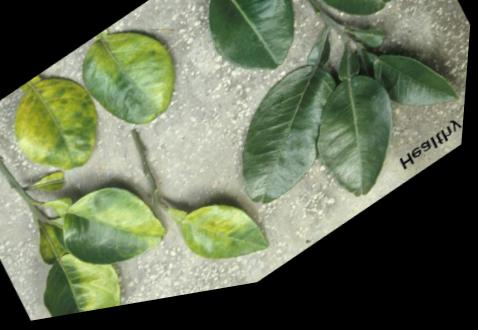Citrus Greening: (70, 8, 196, 157), (0, 50, 121, 201), (57, 159, 181, 296), (17, 201, 150, 325), (172, 178, 282, 301), (28, 228, 158, 324)
Healthy Citrus: (211, 53, 376, 225), (298, 78, 414, 227), (188, 0, 315, 106), (369, 38, 469, 156), (270, 0, 419, 64)
